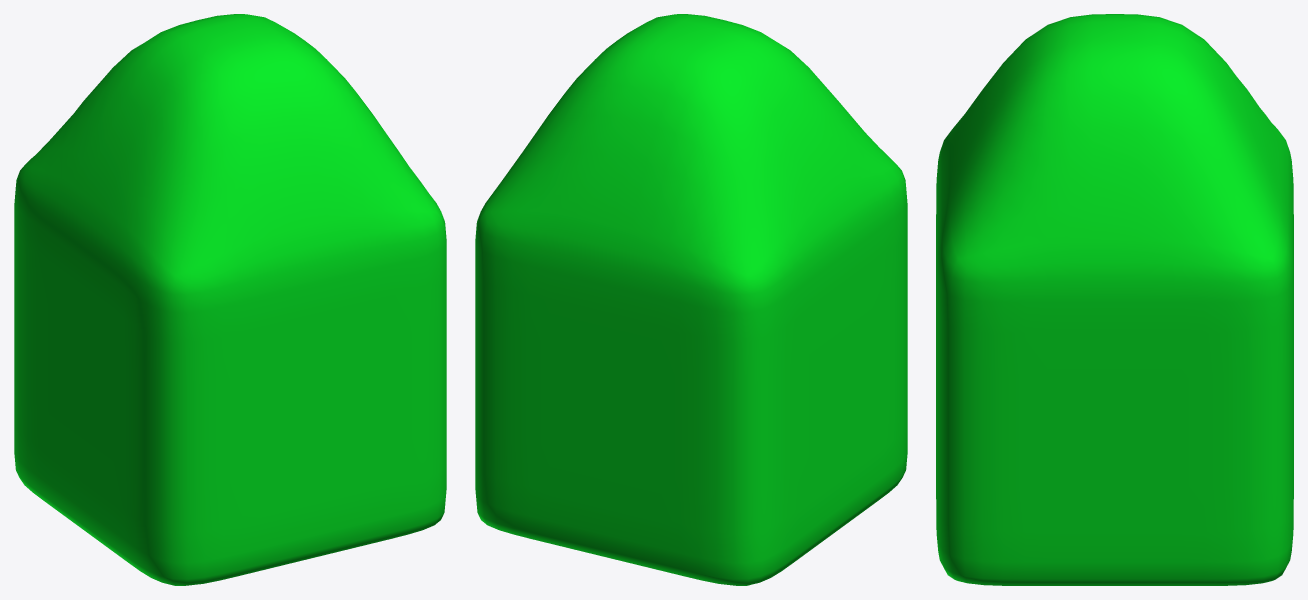
3 views of the same model, side by side, from view 1: azimuth 30°, elevation 25°; view 2: azimuth 150°, elevation 25°; view 3: azimuth 270°, elevation 25° (orthographic). The views are drawn at different scales.
Visible parts, largest first — view 1: Cube; view 2: Cube; view 3: Cube.
Boxes of the visible parts, x1,y1,x2,y2 form: Cube: (14,14,446,585); Cube: (475,14,907,585); Cube: (936,14,1293,585).
Size of the model in its own units: 2 by 3.02 by 2.
